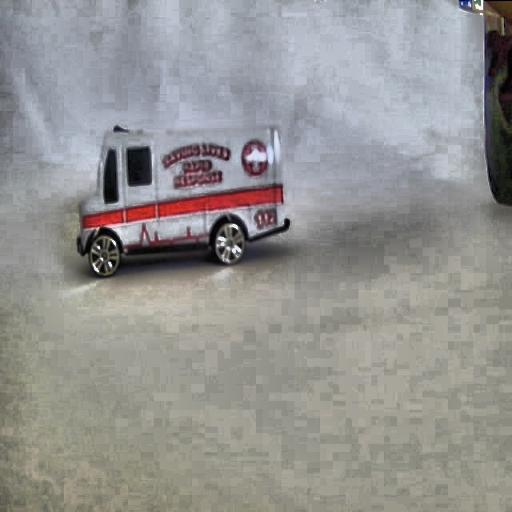ambulance: (76, 124, 290, 276)
